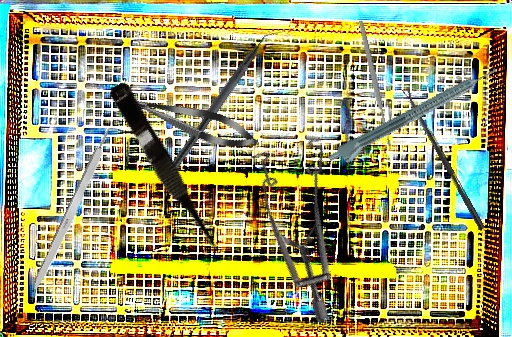Chopper: (166, 20, 286, 181)
Handpiece: (325, 63, 504, 173)
Micro Scissor: (103, 80, 227, 262), (112, 80, 262, 158)
Scalpel Handle: (28, 126, 117, 296)
Speculum: (210, 115, 413, 326)
Surgical Spoon: (402, 86, 486, 231), (356, 19, 394, 148)
